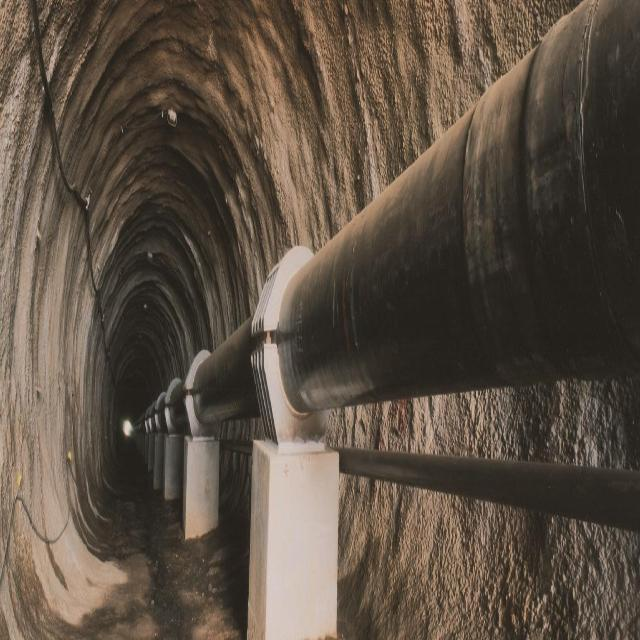gas: (142, 0, 640, 426), (341, 447, 640, 538), (219, 438, 253, 453)
